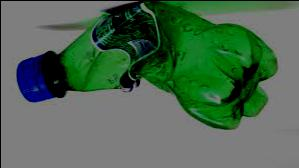Plastic: (10, 1, 280, 138)
